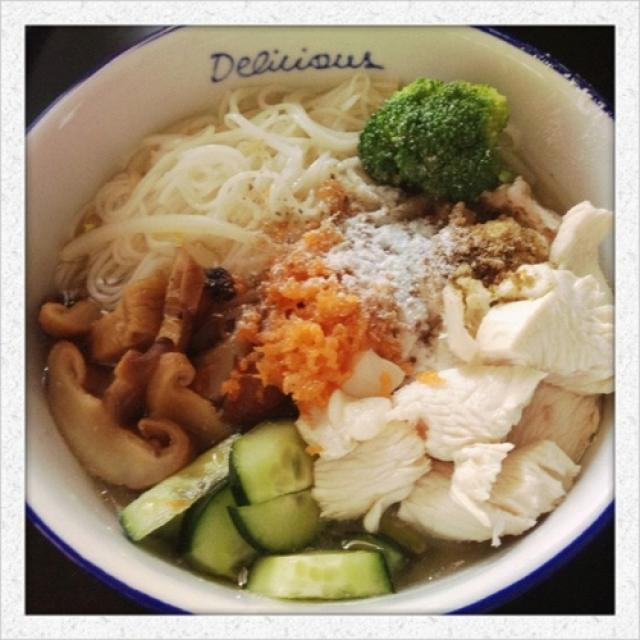面条主食: (32, 26, 595, 604)
